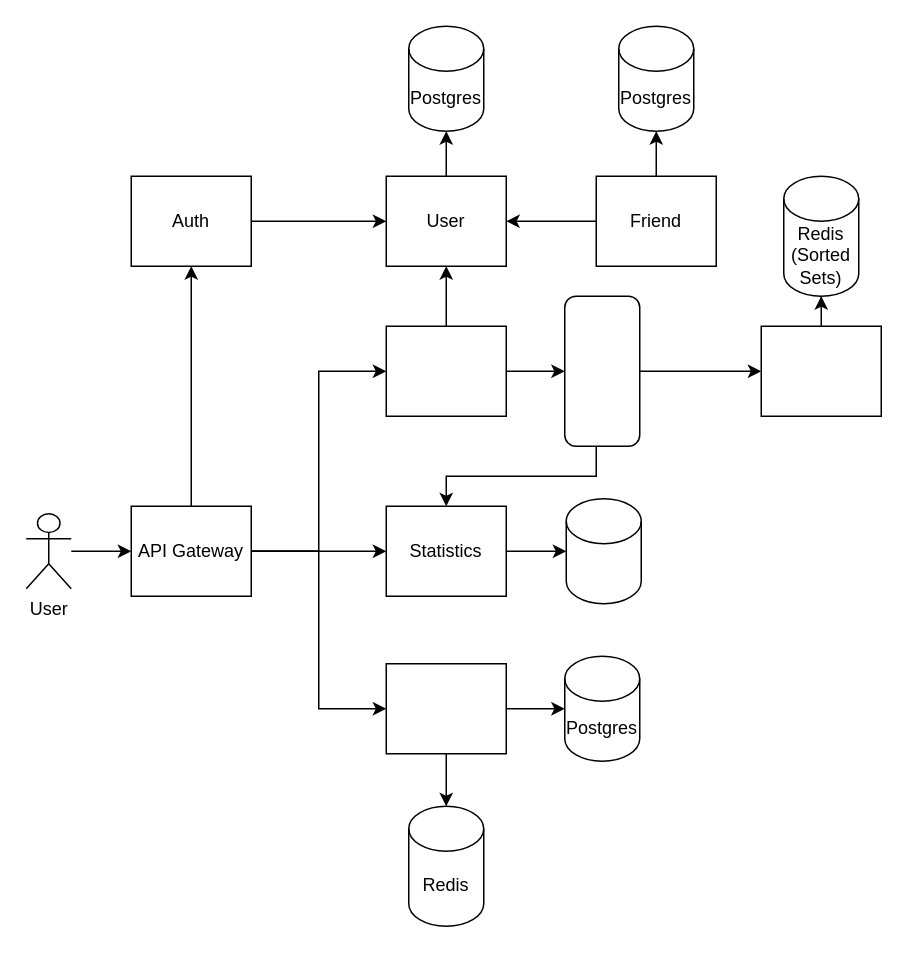
The diagram is 908 pixels wide and 953 high, and some of its shapes have lost their labels. The shapes that lost their labels are listed below. From the top down, each one's centre as x and y in pixels, then its label:
At (x=445, y=370): "Battle".
At (x=601, y=370): "kafka".
At (x=820, y=370): "Leaderboard".
At (x=603, y=550): "NoSQL".
At (x=445, y=708): "Shop".
